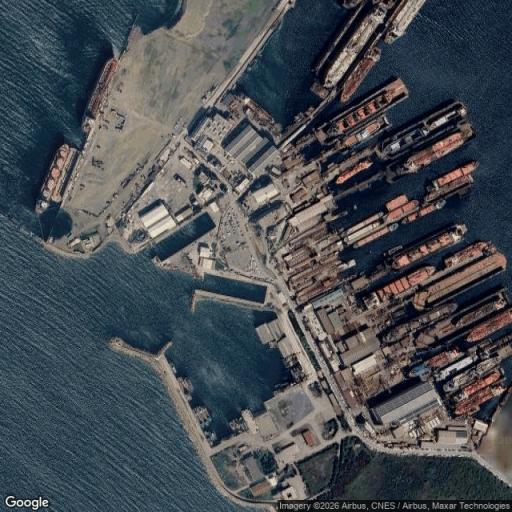ship: (317, 79, 408, 141), (413, 252, 506, 310), (324, 4, 387, 87), (380, 102, 467, 159), (396, 123, 474, 175), (312, 5, 363, 83), (344, 195, 418, 247), (387, 224, 467, 270), (424, 296, 506, 339), (36, 144, 77, 214), (384, 304, 456, 343), (365, 266, 435, 305), (83, 57, 118, 131), (424, 161, 478, 202), (340, 47, 380, 102), (288, 252, 342, 290), (384, 0, 426, 44), (443, 360, 498, 392), (380, 126, 429, 159), (341, 116, 390, 147), (467, 308, 511, 342), (454, 385, 503, 415), (455, 300, 506, 328), (343, 212, 385, 245), (444, 242, 496, 268), (409, 350, 460, 376), (424, 175, 473, 202), (432, 161, 478, 189), (296, 274, 339, 303), (425, 102, 467, 130), (434, 356, 477, 381), (343, 221, 384, 246), (478, 332, 511, 363), (462, 371, 501, 397), (354, 224, 398, 247), (402, 200, 445, 223), (384, 195, 419, 223), (344, 212, 383, 236), (242, 96, 274, 125), (443, 368, 477, 394), (336, 159, 371, 184), (419, 319, 455, 343), (284, 246, 313, 271), (425, 349, 460, 367), (475, 358, 499, 378), (193, 406, 211, 428), (385, 195, 407, 211), (178, 377, 193, 400), (311, 82, 329, 99), (408, 364, 431, 377), (229, 418, 247, 434), (384, 245, 403, 257), (372, 0, 396, 9), (339, 259, 356, 271), (204, 431, 216, 447), (344, 0, 362, 8), (169, 362, 176, 375)
